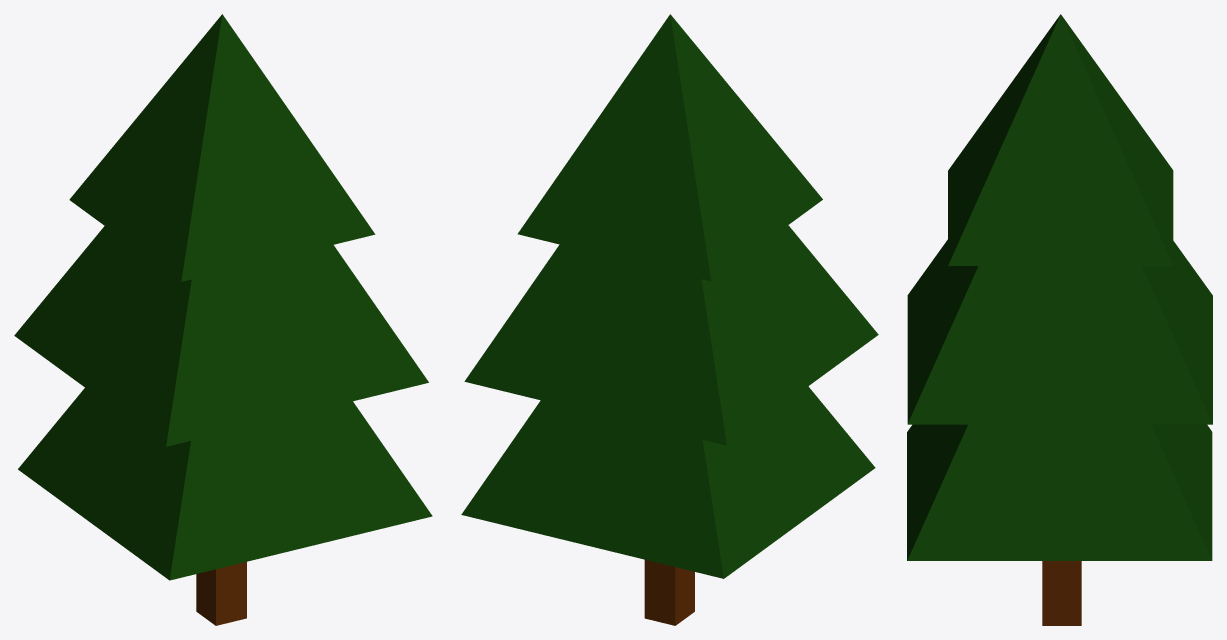
File: lillegrantræ.fbx
The picture shows the model from 3 angles, left to right: view 1: azimuth 30°, elevation 25°; view 2: azimuth 150°, elevation 25°; view 3: azimuth 270°, elevation 25°; orthographic projection.
Visible parts, largest first — view 1: Cube; view 2: Cube; view 3: Cube.
Boxes of the visible parts, x1=… form: Cube: x1=14, y1=14, x2=432, y2=625; Cube: x1=461, y1=14, x2=878, y2=625; Cube: x1=907, y1=14, x2=1212, y2=625.
Size of the model in its own units: 0.8844 by 1.91 by 0.8745.
